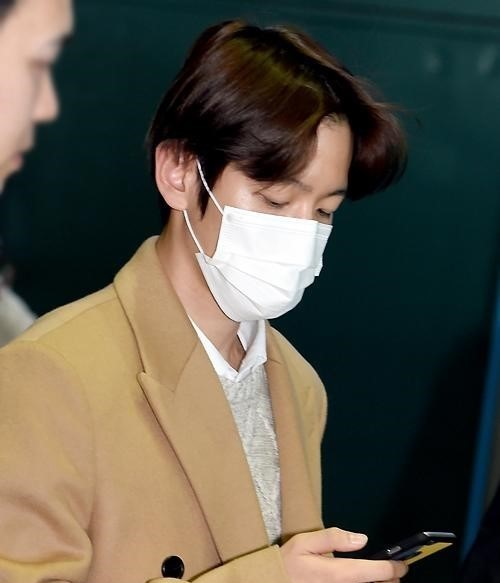face: (1, 1, 69, 201)
face_mask: (201, 114, 348, 320)
